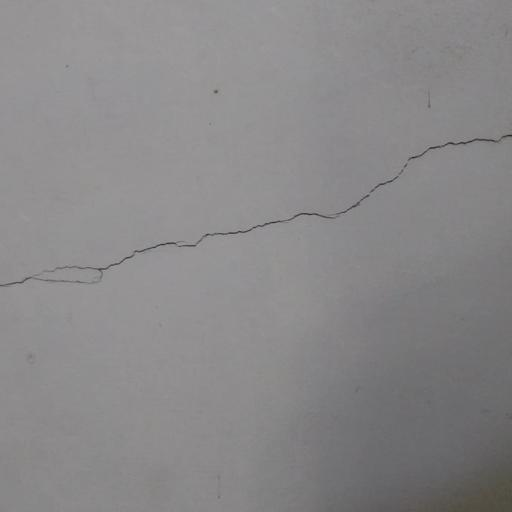major_crack: (0, 120, 512, 294)
